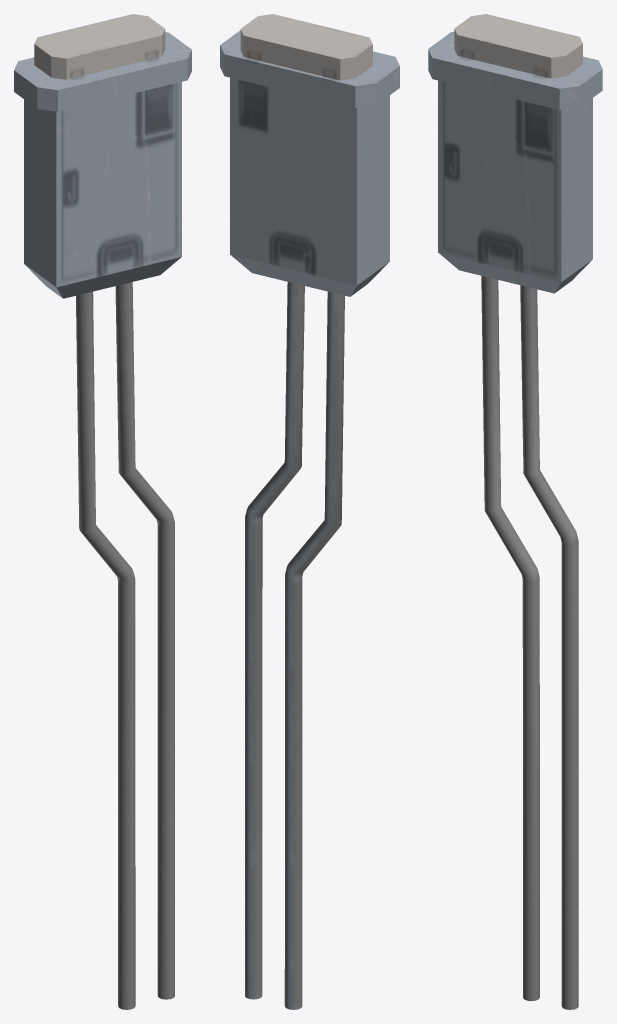
The model's file is Pfb_Soda_ExhaustSystem1.fbx.
The picture shows the model from 3 angles, left to right: view 1: azimuth 30°, elevation 25°; view 2: azimuth 150°, elevation 25°; view 3: azimuth 330°, elevation 25°; orthographic projection. The views are drawn at different scales.
Parts seen in each view (by area): view 1: MAT_Soda_Pipe 1; view 2: MAT_Soda_Pipe 1; view 3: MAT_Soda_Pipe 1.
Boxes of the visible parts, box(x1,y1,x2,y2) form: MAT_Soda_Pipe 1: box(14, 14, 191, 1009); MAT_Soda_Pipe 1: box(220, 14, 399, 1009); MAT_Soda_Pipe 1: box(428, 14, 602, 1009).
Size of the model in its own units: 0.6094 by 3.65 by 0.2712.
Materials: 1 (1 with a texture image).
